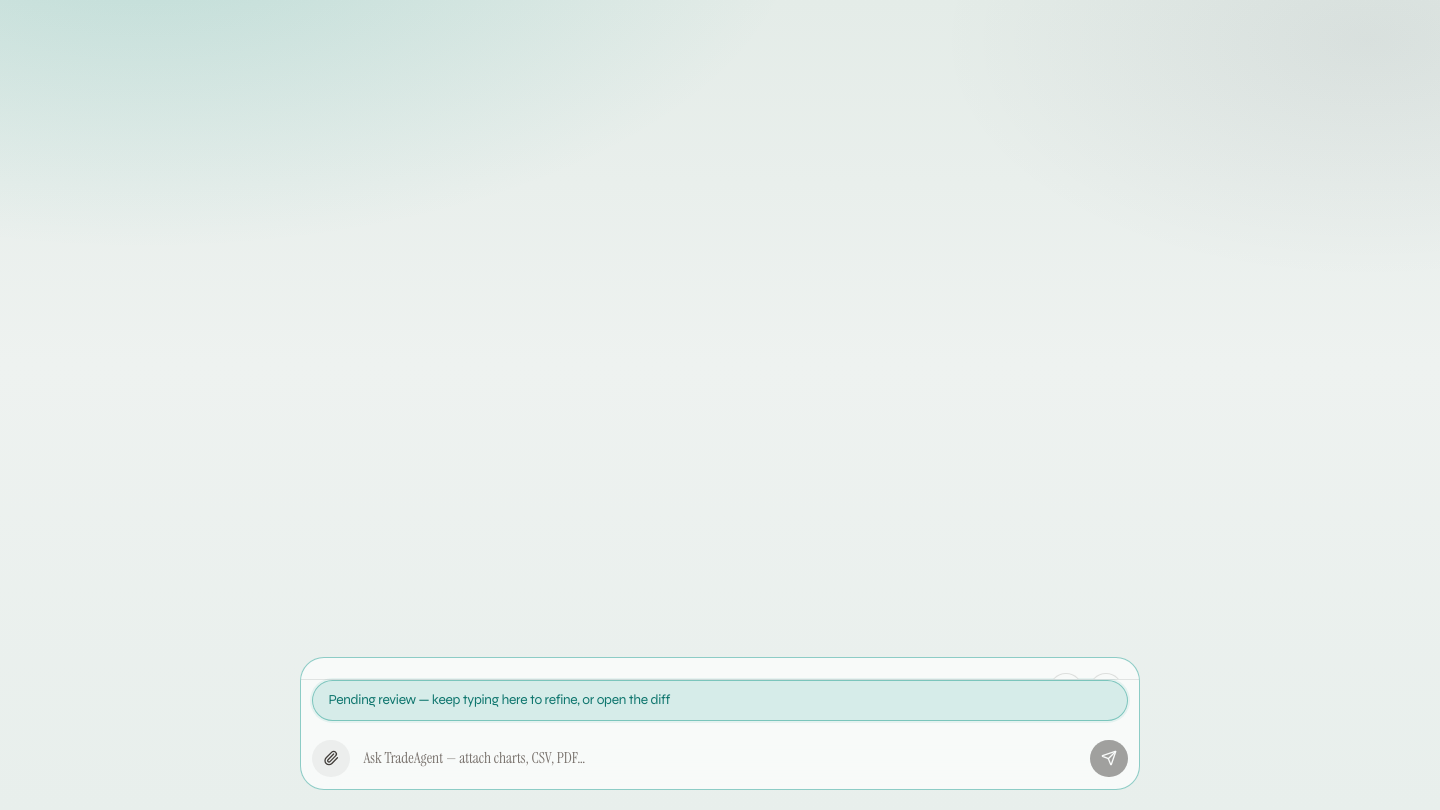
Scenario: ChatWidget › builds charts from chartRequests and clears a no-op proposal
Click the button "Pending review" at (499, 700), box 312,680 -> 1128,721
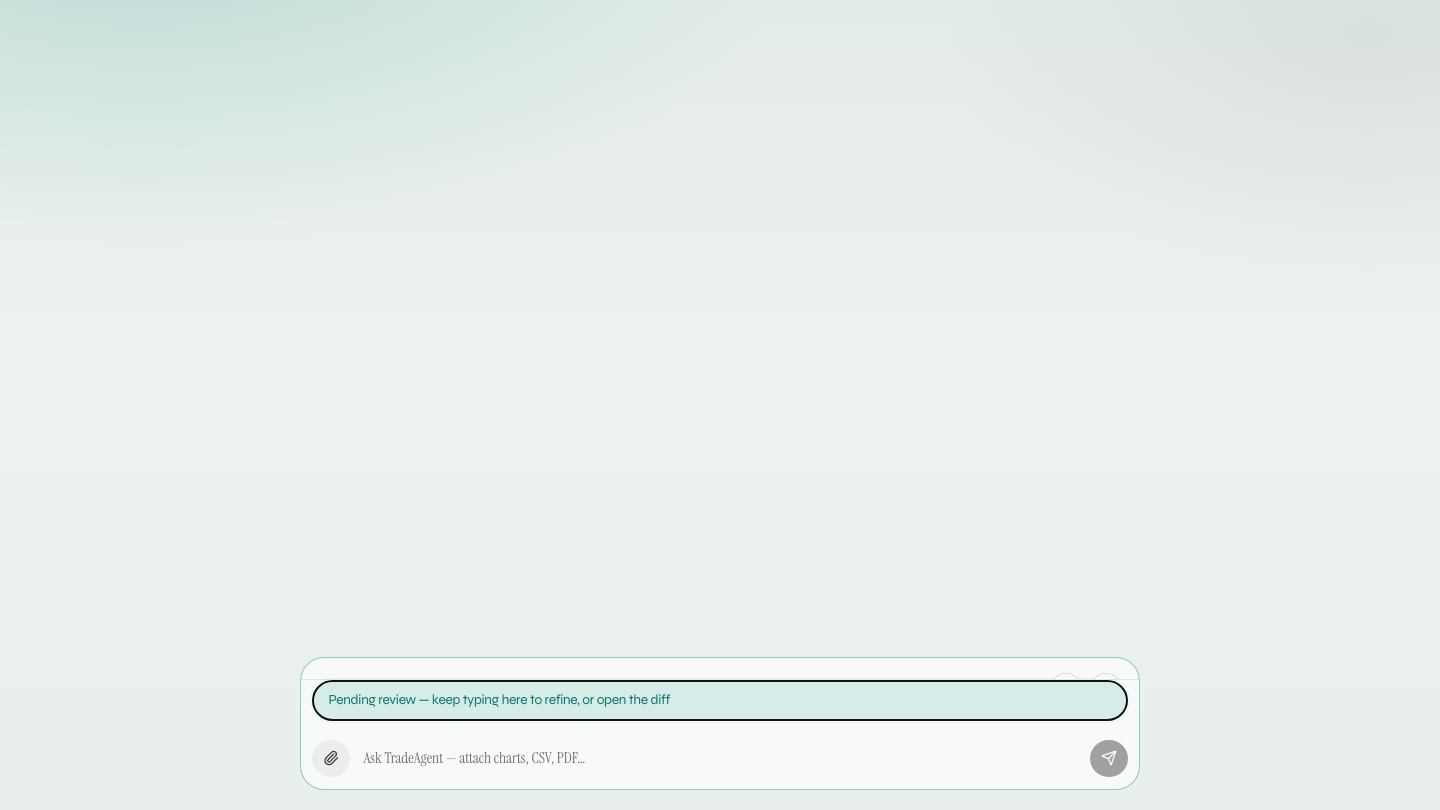
Type "ignore" into the field named "Message TradeAgent" at (720, 758), box 358,738 -> 1082,779
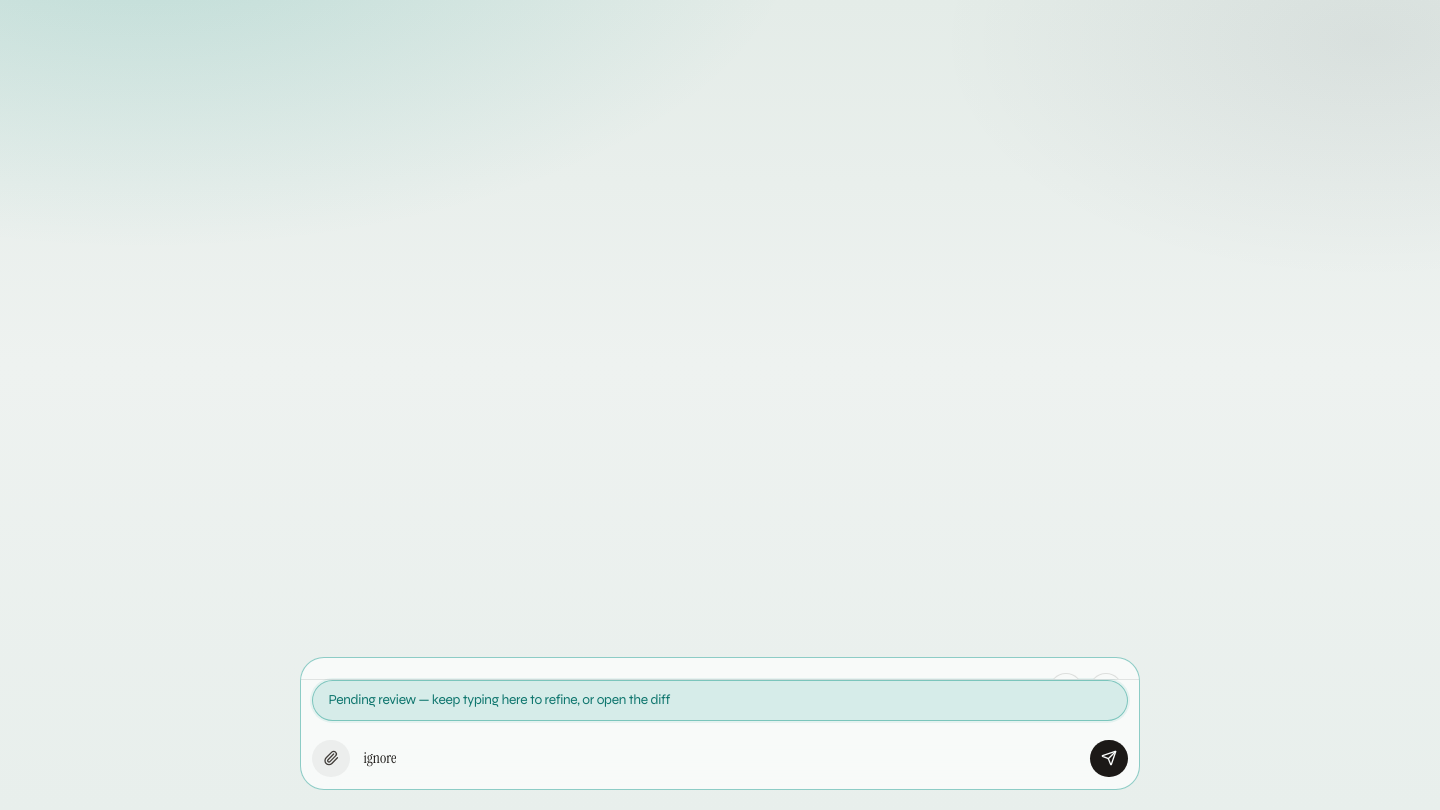
Click the button named "Send message" at (1109, 758), box 1090,740 -> 1128,777
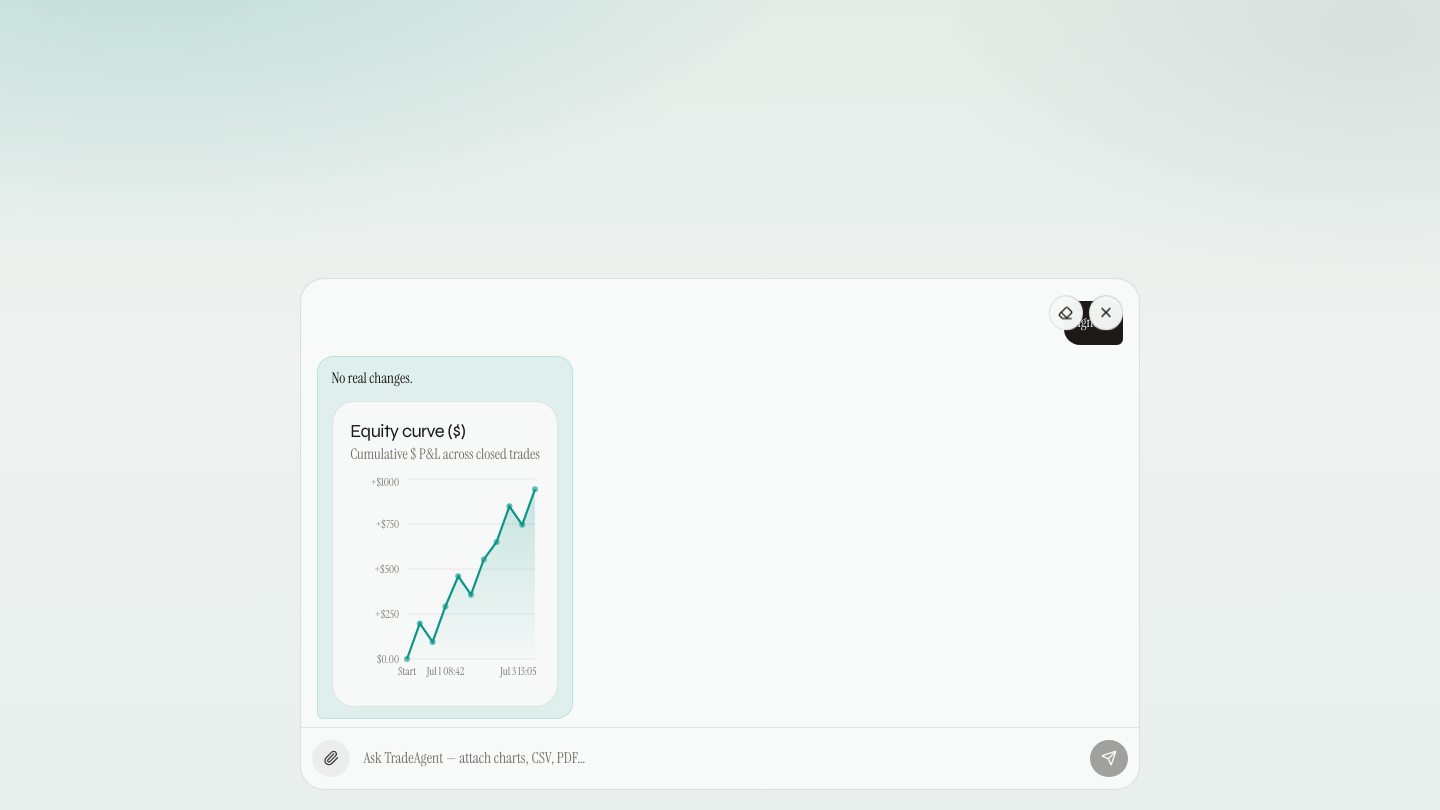
Result: the text "No real changes." is shown at 332,368 -> 413,388
Result: the element with class "chat-chart" is shown at 332,401 -> 558,707
